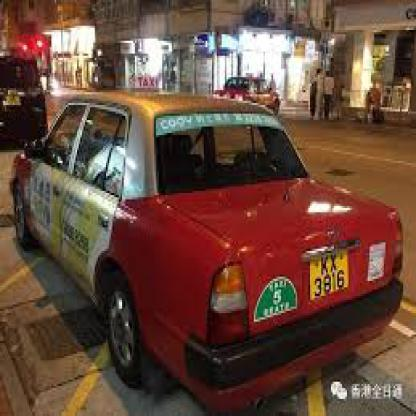taxi: (11, 70, 412, 415)
